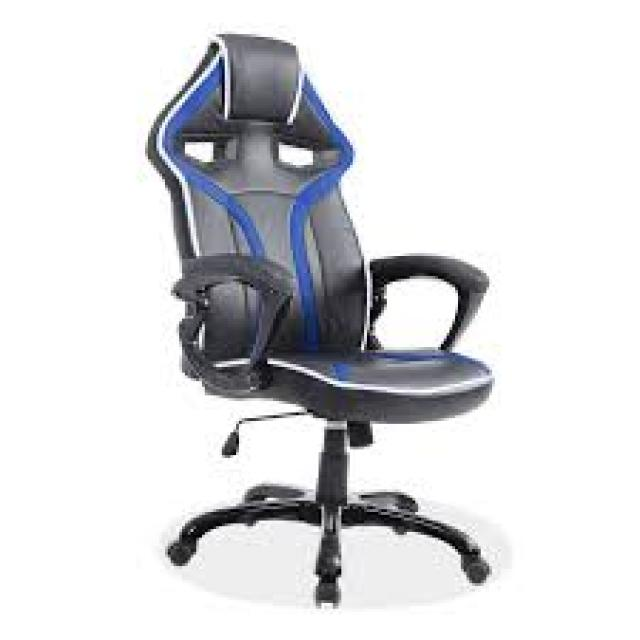bottle: (142, 28, 490, 622)
